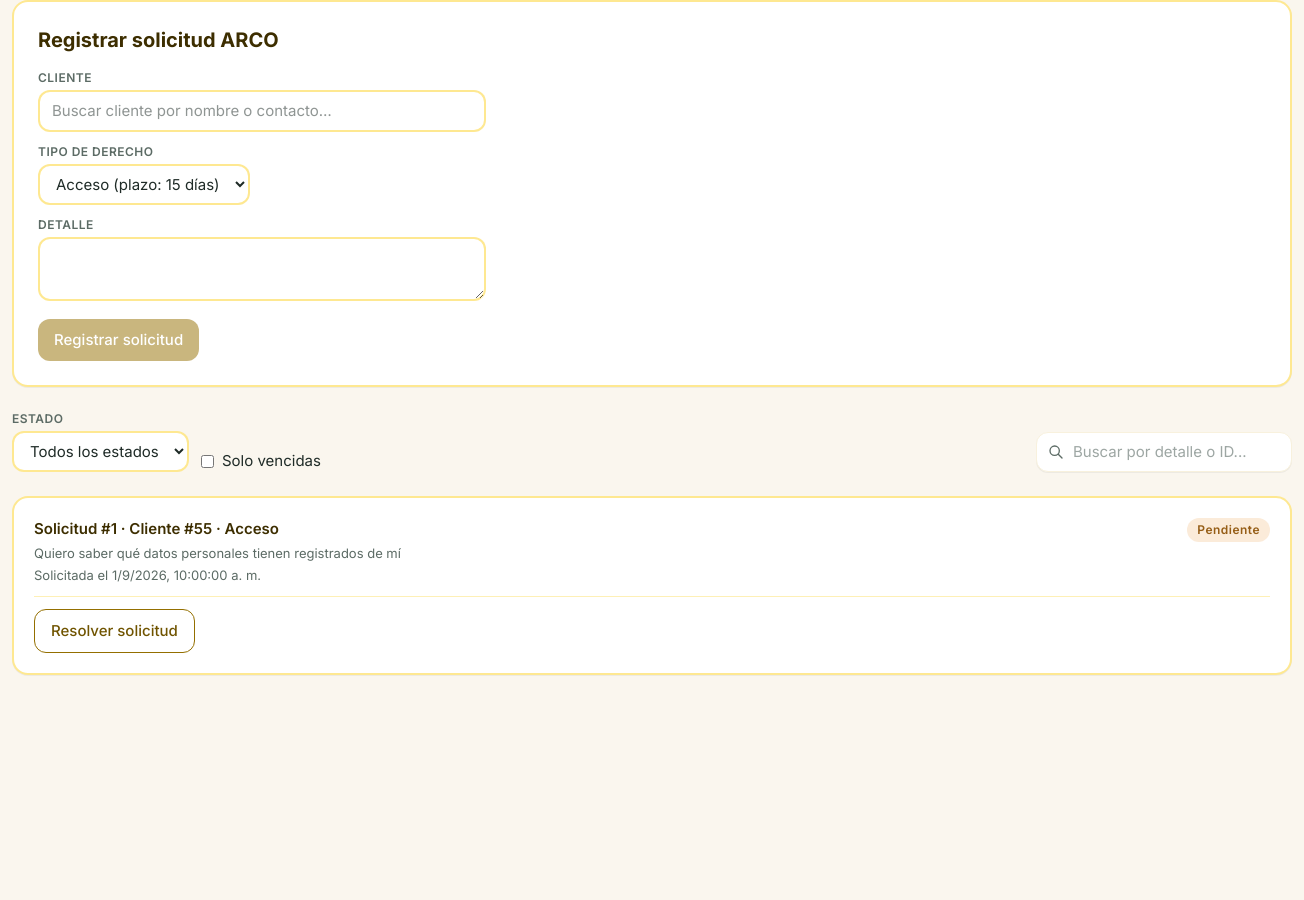
Test case: SolicitudesArco › resuelve una solicitud real, exigiendo respuesta, y muestra los tres campos de resolución que devuelve el backend
Expected: the text "Quiero saber qué datos personales tienen registrados de mí" is shown, x1=34 y1=544 x2=401 y2=562
Click the button "Resolver solicitud" at (114,631), box x1=34 y1=609 x2=195 y2=653
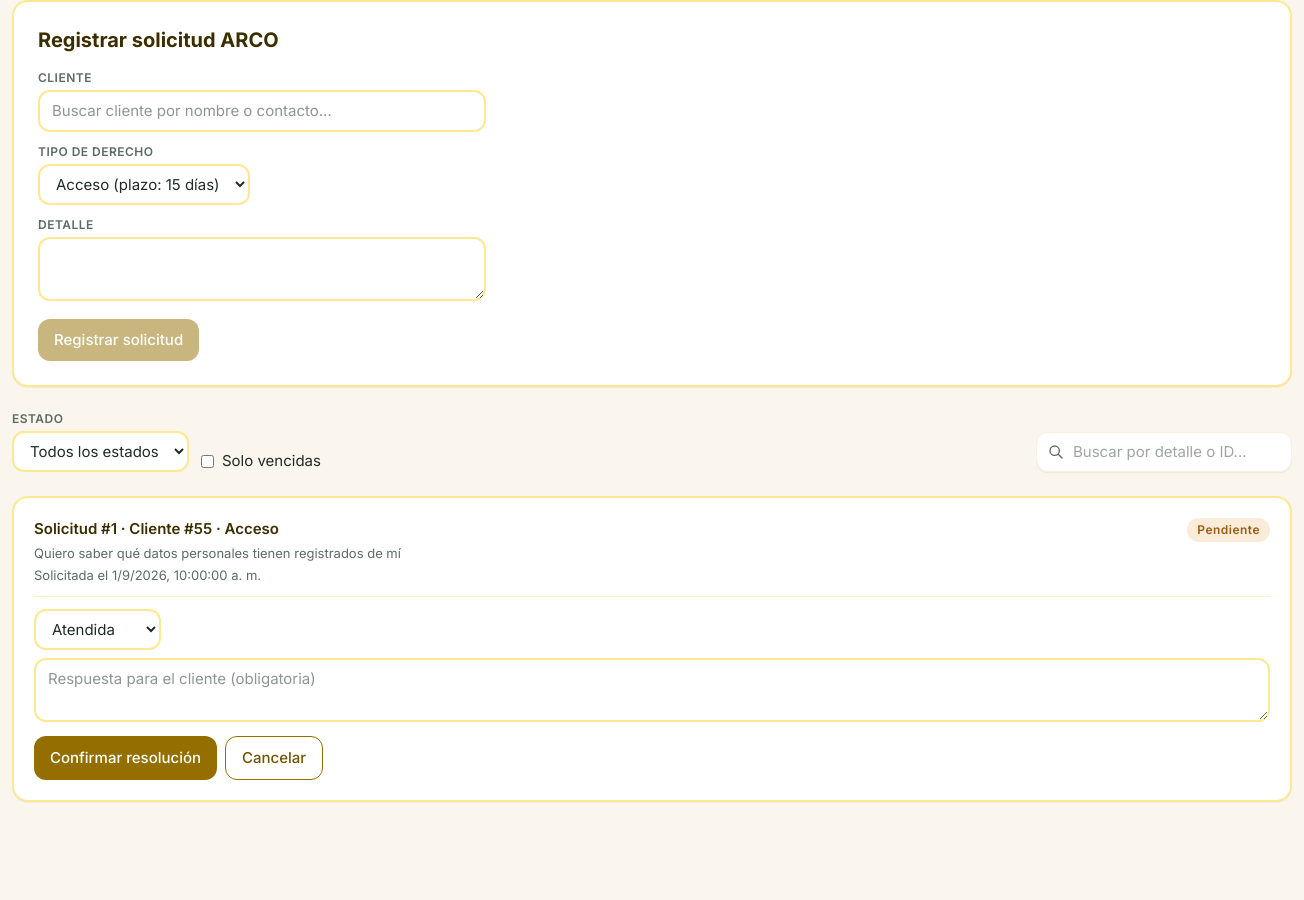
Select "Atendida" in the 3rd dropdown at (98,630), box x1=34 y1=609 x2=161 y2=650
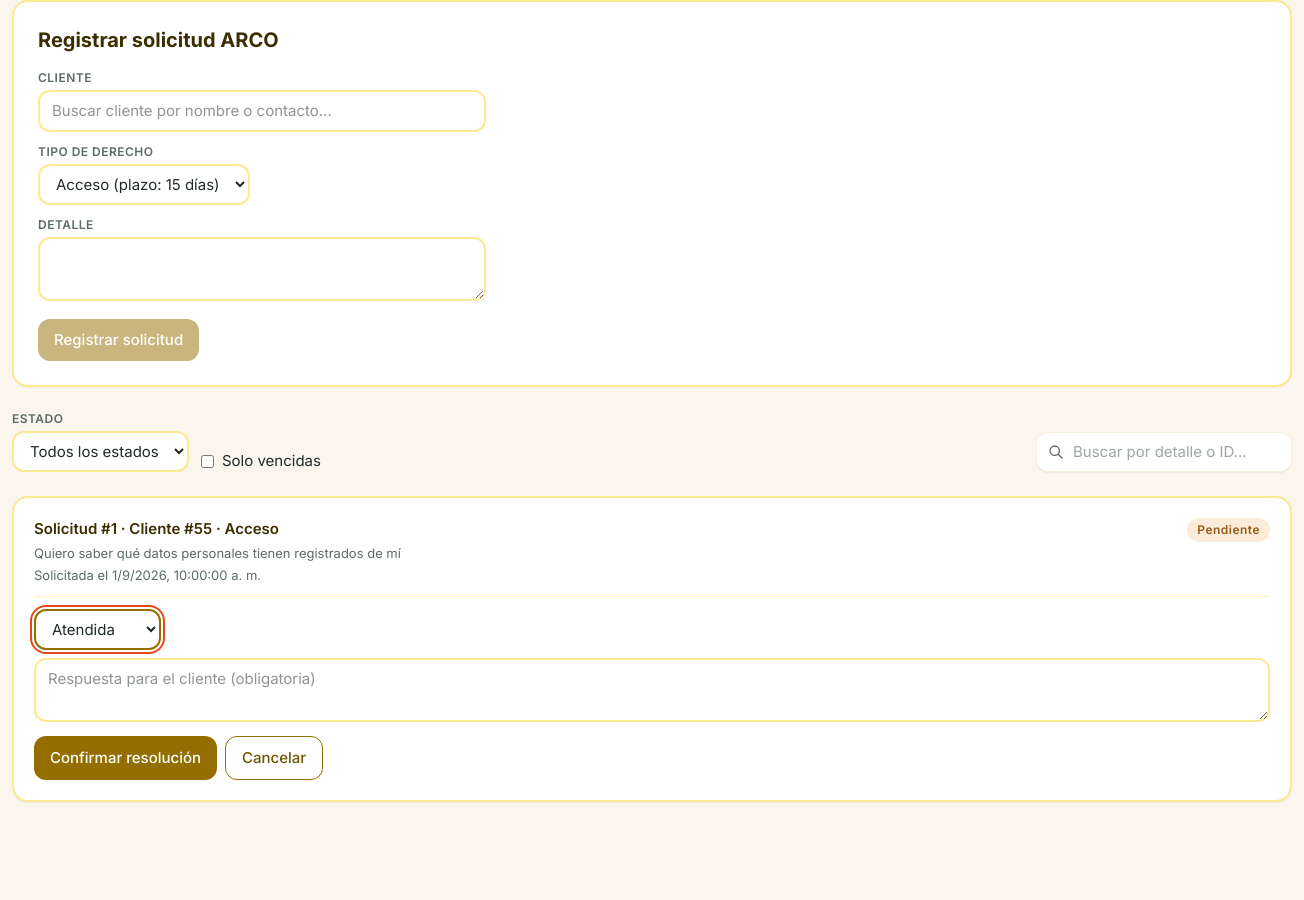
Type "Te enviamos el detalle por correo" into the text box with placeholder "Respuesta para el cliente (obligatoria)" at (652,690), box x1=34 y1=658 x2=1270 y2=722
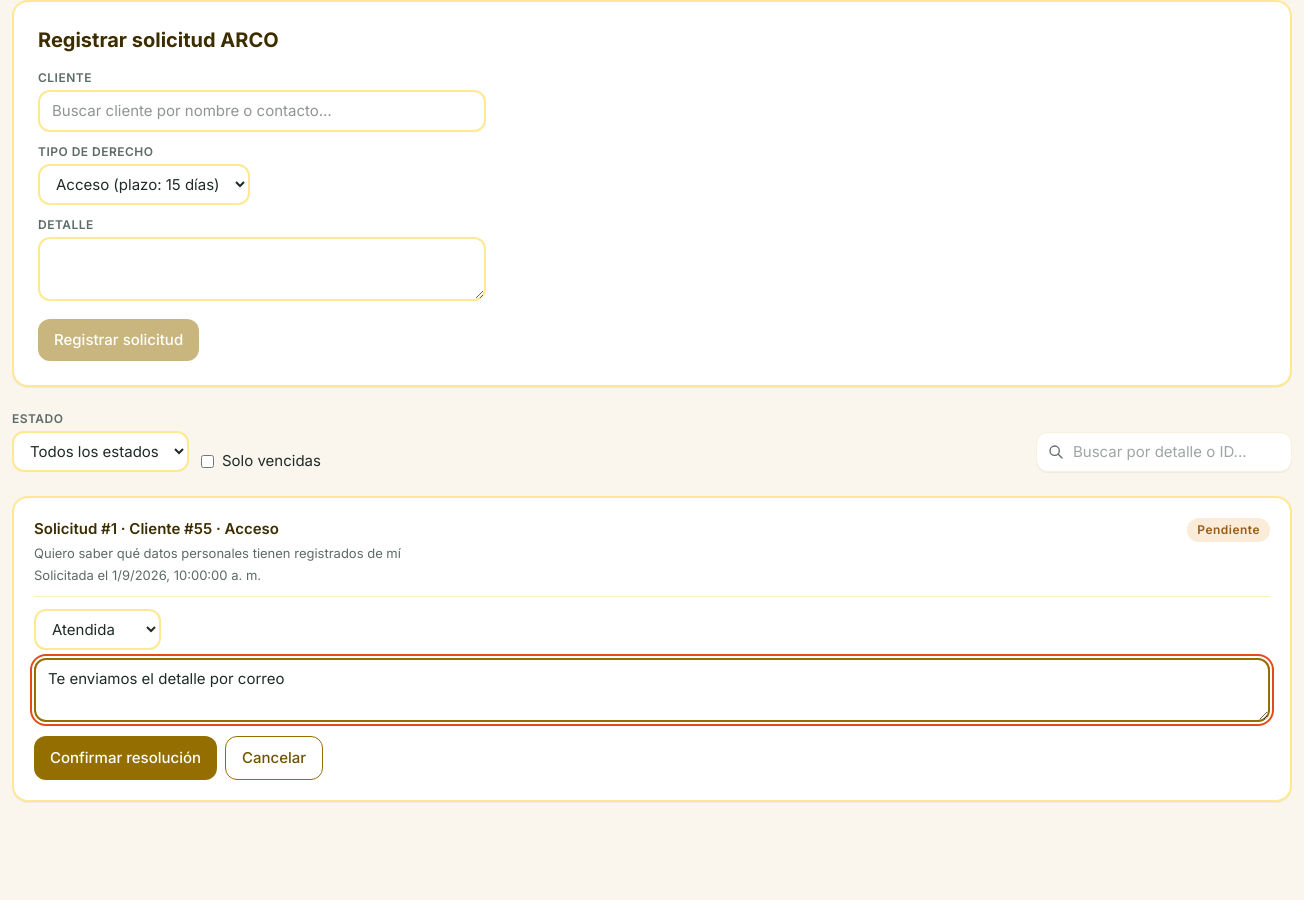
Click the button "Confirmar resolución" at (126,758), box x1=34 y1=736 x2=217 y2=780
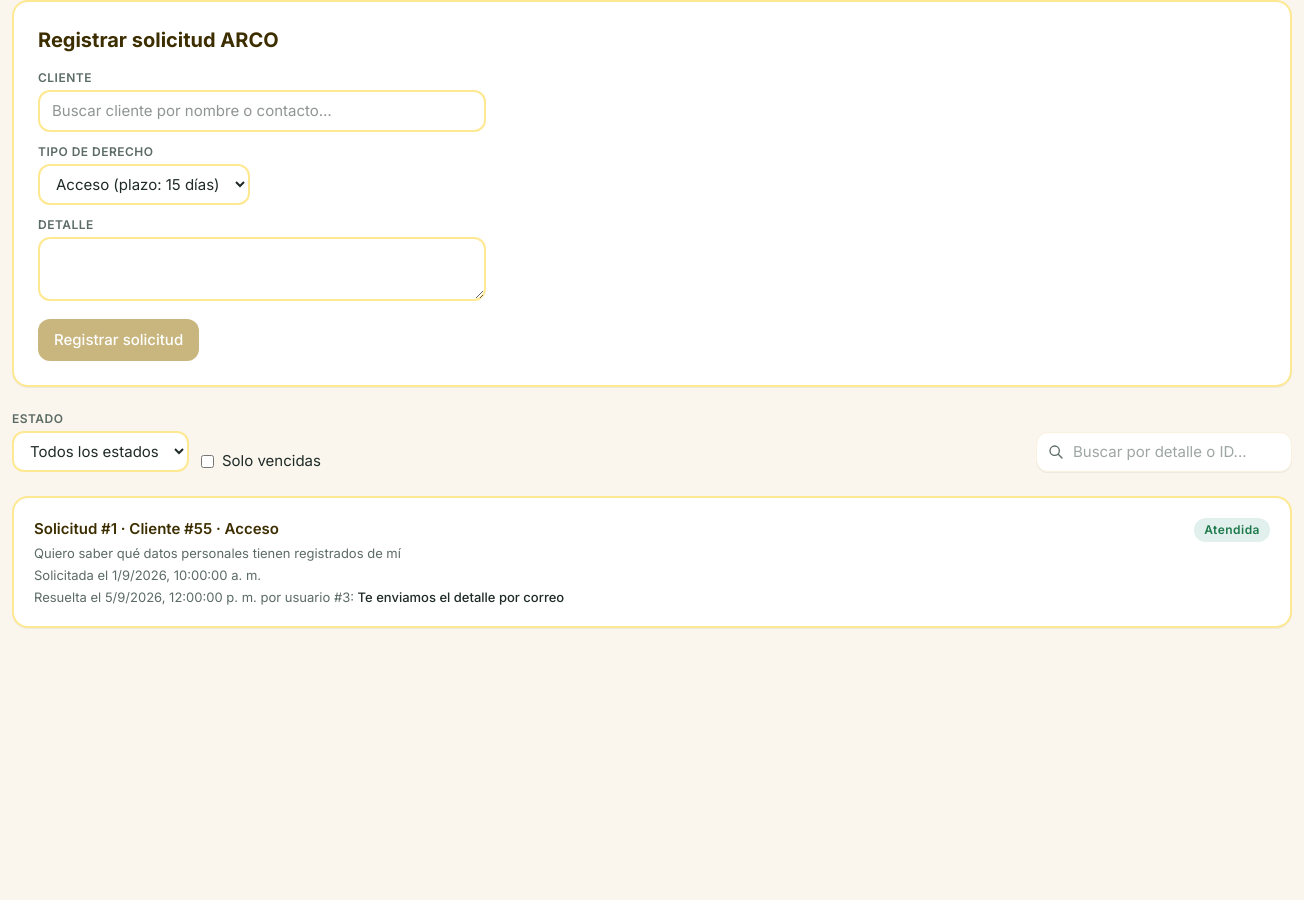
Expected: the button "Resolver solicitud" is not shown
Now the text "usuario #3" is shown, box x1=34 y1=588 x2=564 y2=606
Now the text "Te enviamos el detalle por correo" is shown, box x1=358 y1=589 x2=564 y2=605
